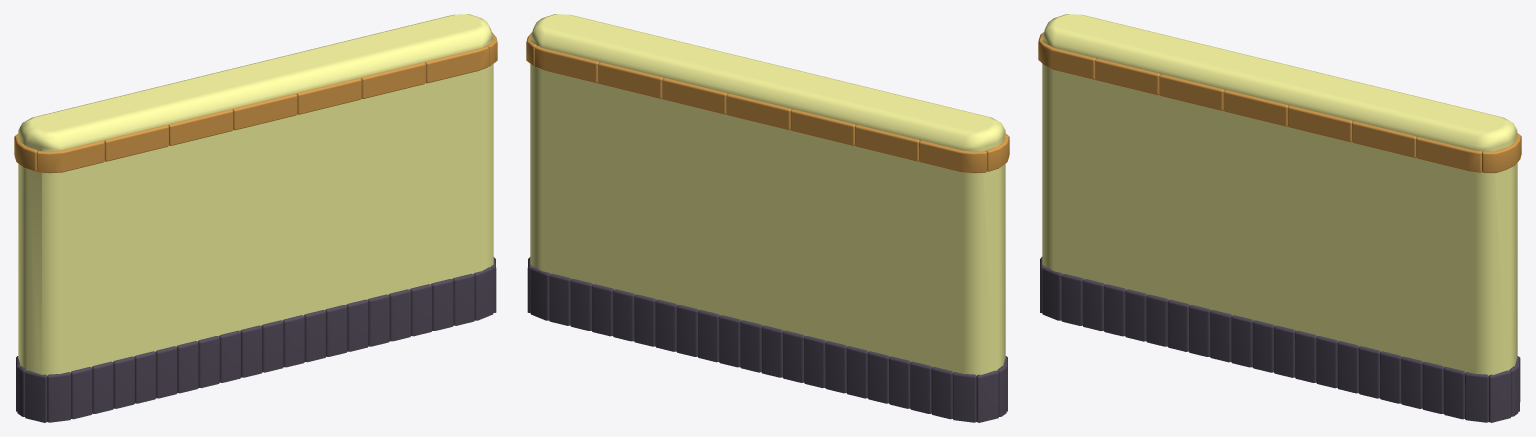
Rendered from Env2_Wall.fbx.
3 renders of one model, left to right at view 1: azimuth 30°, elevation 25°; view 2: azimuth 150°, elevation 25°; view 3: azimuth 330°, elevation 25°, orthographic.
Visible parts, largest first — view 1: Env2_Wall; view 2: Env2_Wall; view 3: Env2_Wall.
Part boxes in pixels (left/top/right/bottom): Env2_Wall: left=14, top=14, right=497, bottom=422; Env2_Wall: left=526, top=14, right=1009, bottom=422; Env2_Wall: left=1038, top=14, right=1521, bottom=422.
Size of the model in its own units: 338 by 195 by 44.49.
